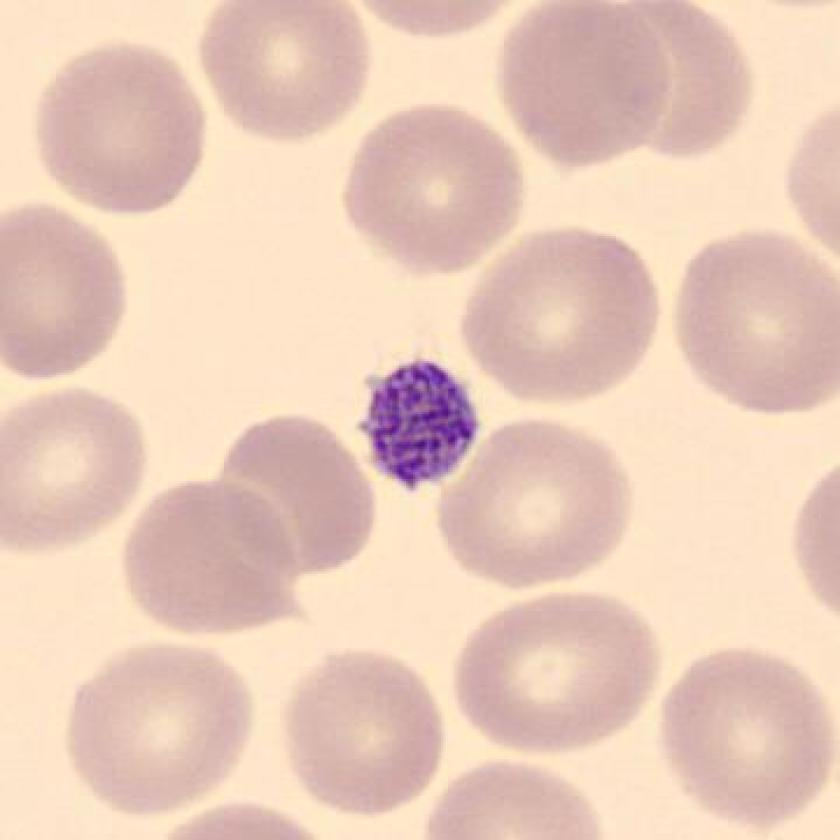platelets: (344, 343, 496, 501)
